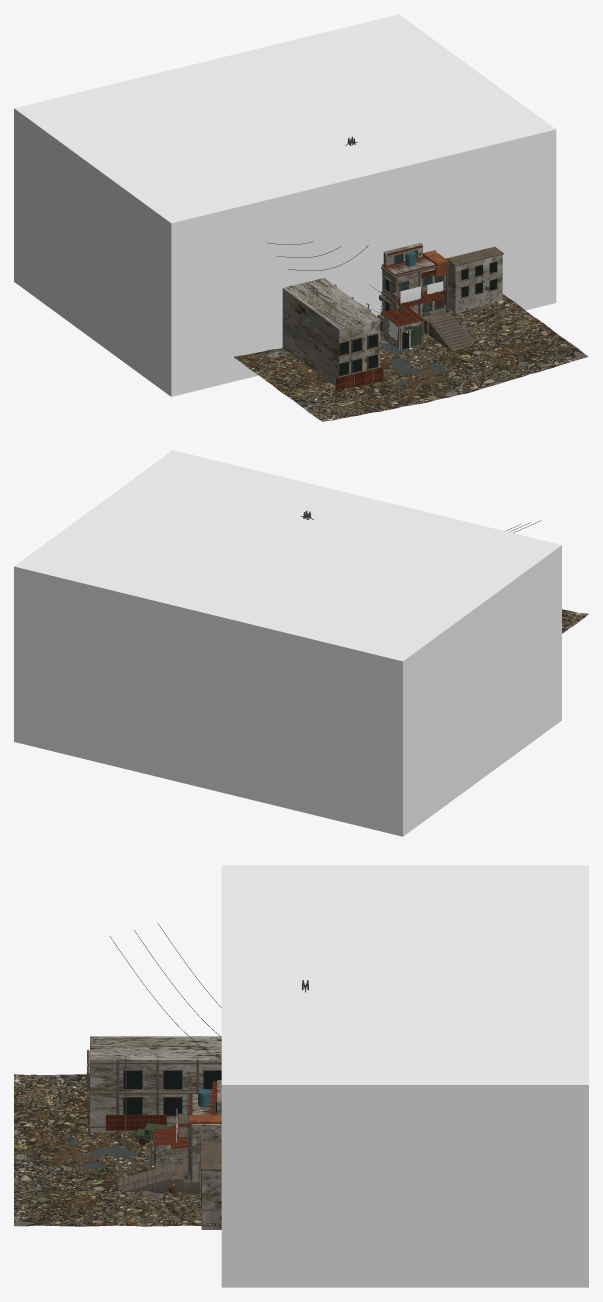
File: stormwater.glb
3 renders of one model, top to bottom at view 1: azimuth 30°, elevation 25°; view 2: azimuth 150°, elevation 25°; view 3: azimuth 270°, elevation 25°, orthographic. The views are drawn at different scales.
Visible parts, largest first — view 1: Atmospheric haze volume, Uneven mud lane, Left industrial building, Outer settlement background, Main tenement mass, Outer settlement roof; view 2: Atmospheric haze volume; view 3: Atmospheric haze volume, Uneven mud lane, Left industrial building, Outer settlement background, Main tenement mass, Outer settlement roof, Ground annex.
Boxes of the visible parts, bbox=[...] form: Atmospheric haze volume: bbox=[14, 14, 556, 396]; Uneven mud lane: bbox=[234, 294, 588, 421]; Left industrial building: bbox=[282, 278, 380, 386]; Outer settlement background: bbox=[448, 254, 502, 313]; Main tenement mass: bbox=[382, 258, 445, 315]; Outer settlement roof: bbox=[446, 246, 503, 266]; Atmospheric haze volume: bbox=[14, 450, 561, 836]; Atmospheric haze volume: bbox=[221, 865, 588, 1287]; Uneven mud lane: bbox=[14, 1074, 221, 1226]; Left industrial building: bbox=[90, 1036, 221, 1132]; Outer settlement background: bbox=[201, 1170, 221, 1229]; Main tenement mass: bbox=[192, 1094, 221, 1181]; Outer settlement roof: bbox=[200, 1141, 221, 1170]; Ground annex: bbox=[155, 1134, 188, 1172].
Bounding box in the file's own units: 65 × 29.01 × 72.
21 materials, 7 textured.
